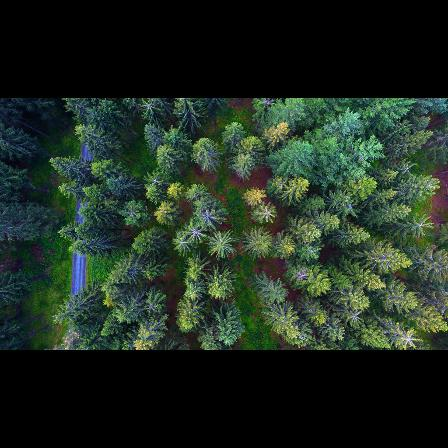Sick: (119, 201, 145, 228), (182, 223, 208, 248), (198, 207, 221, 230), (398, 329, 423, 350), (344, 309, 365, 327)
